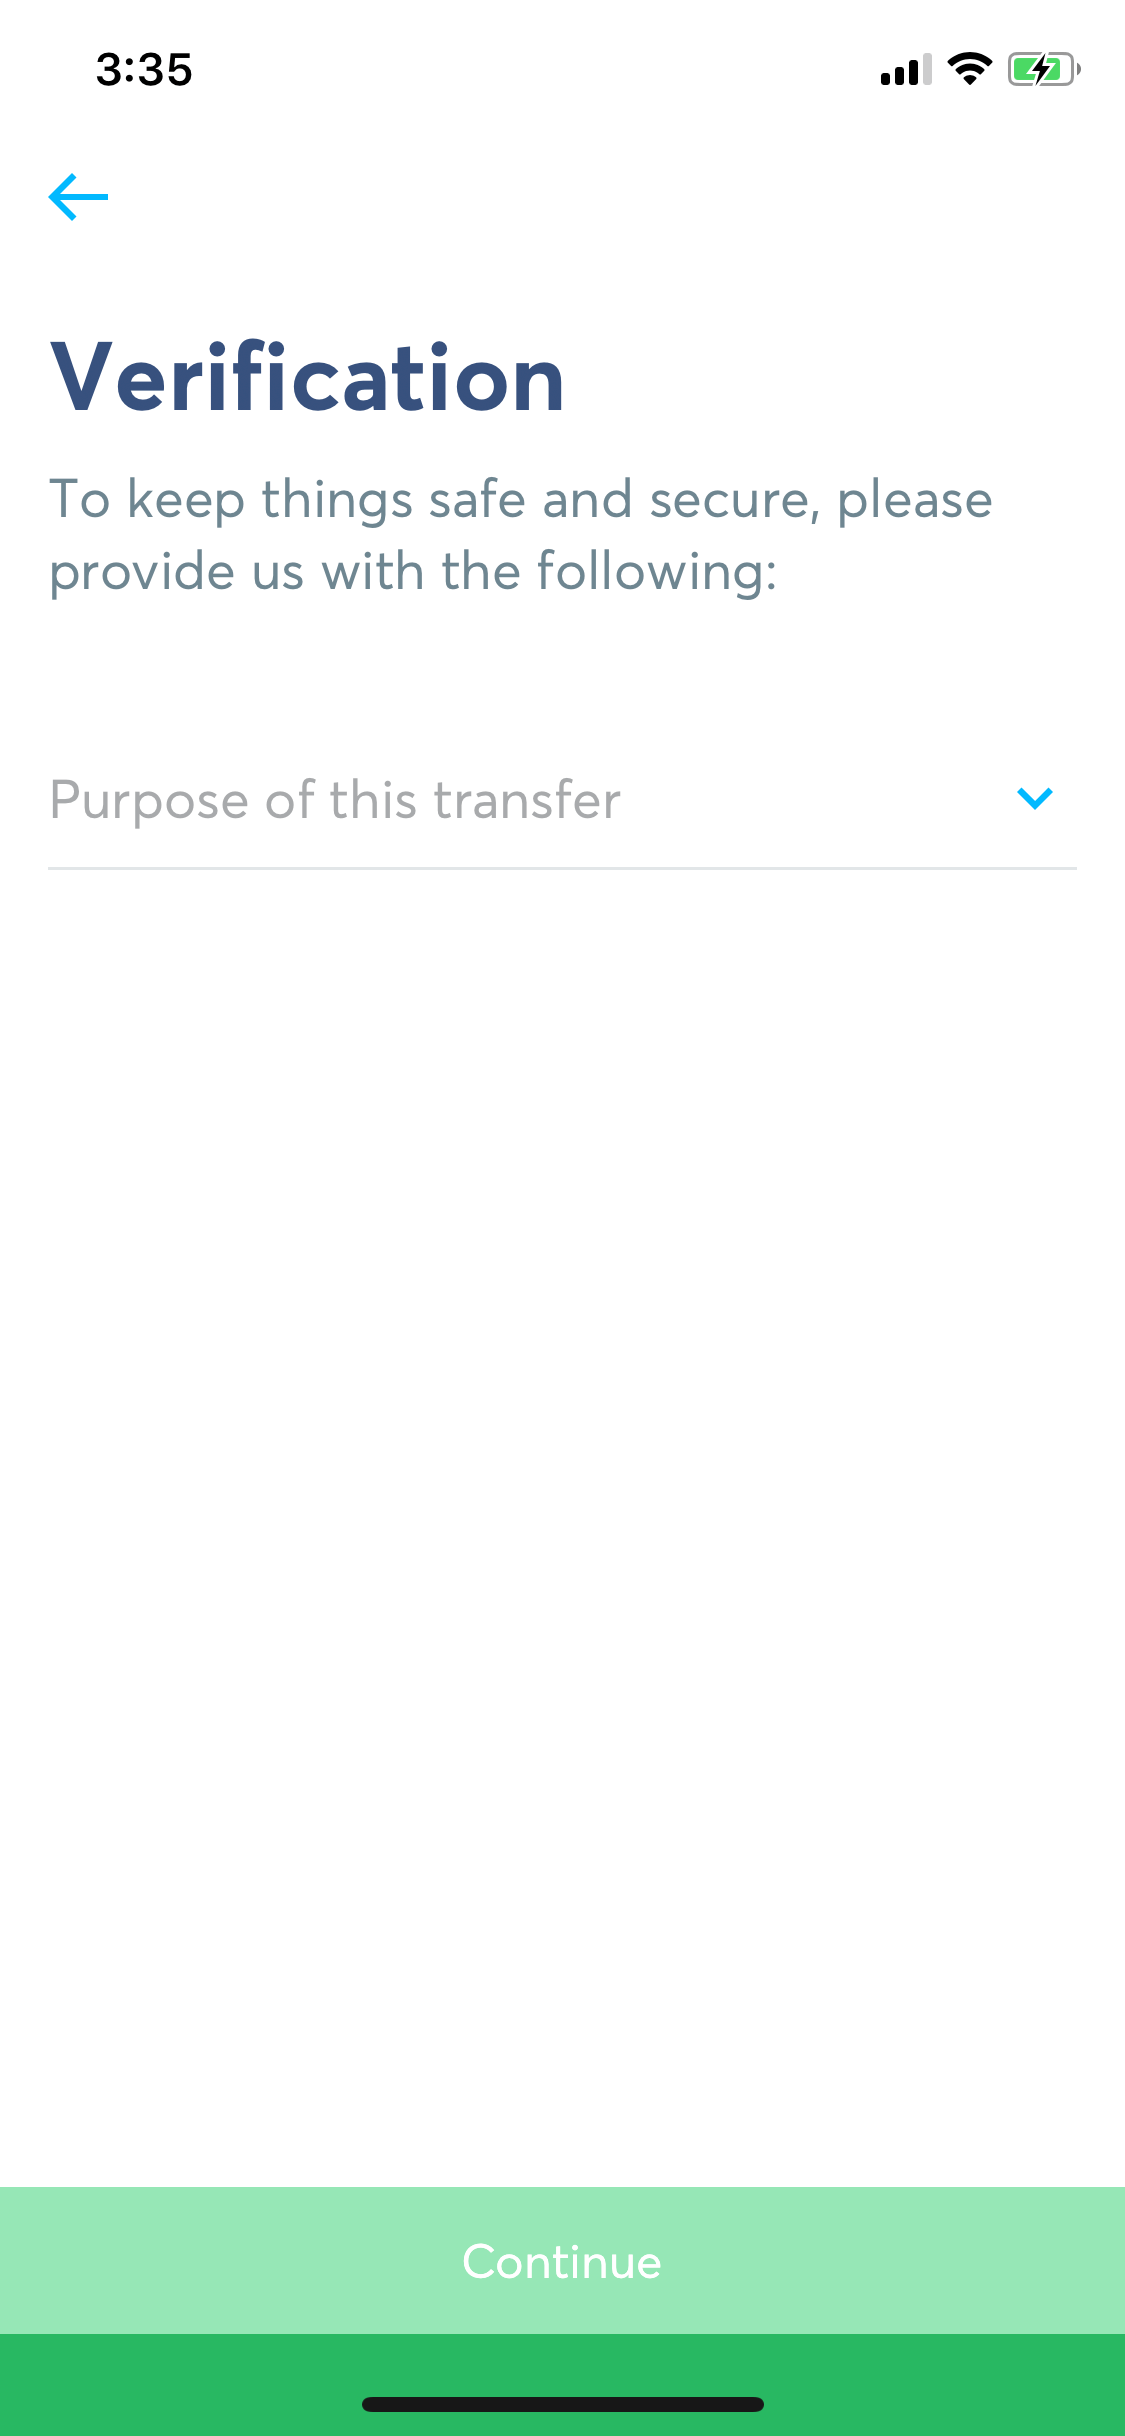Buttons: (2, 2145, 1125, 2351), (20, 121, 146, 258)
Text Fields: (30, 713, 1095, 904)
